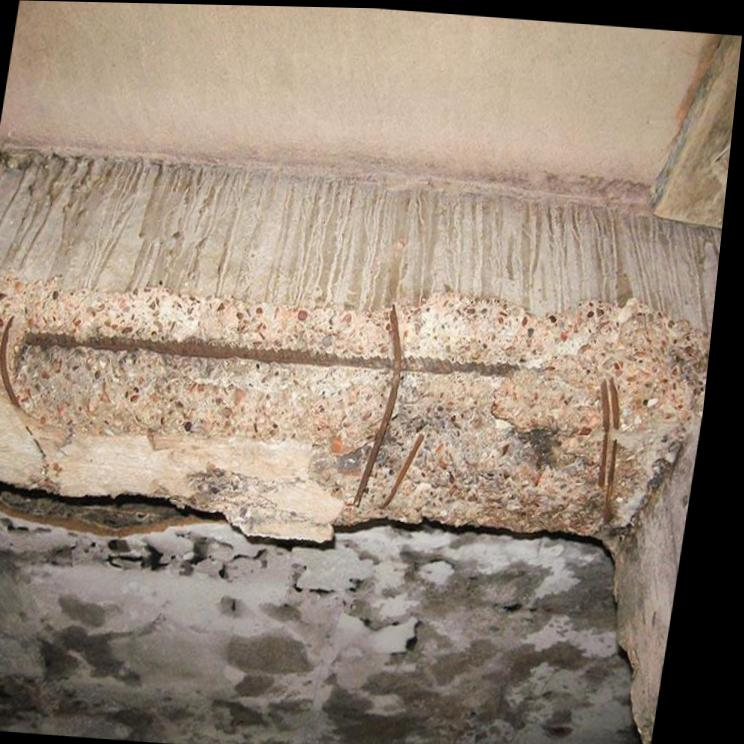crack: (34, 425, 56, 464)
damage: (352, 292, 718, 536), (0, 277, 399, 499), (186, 464, 310, 530)
